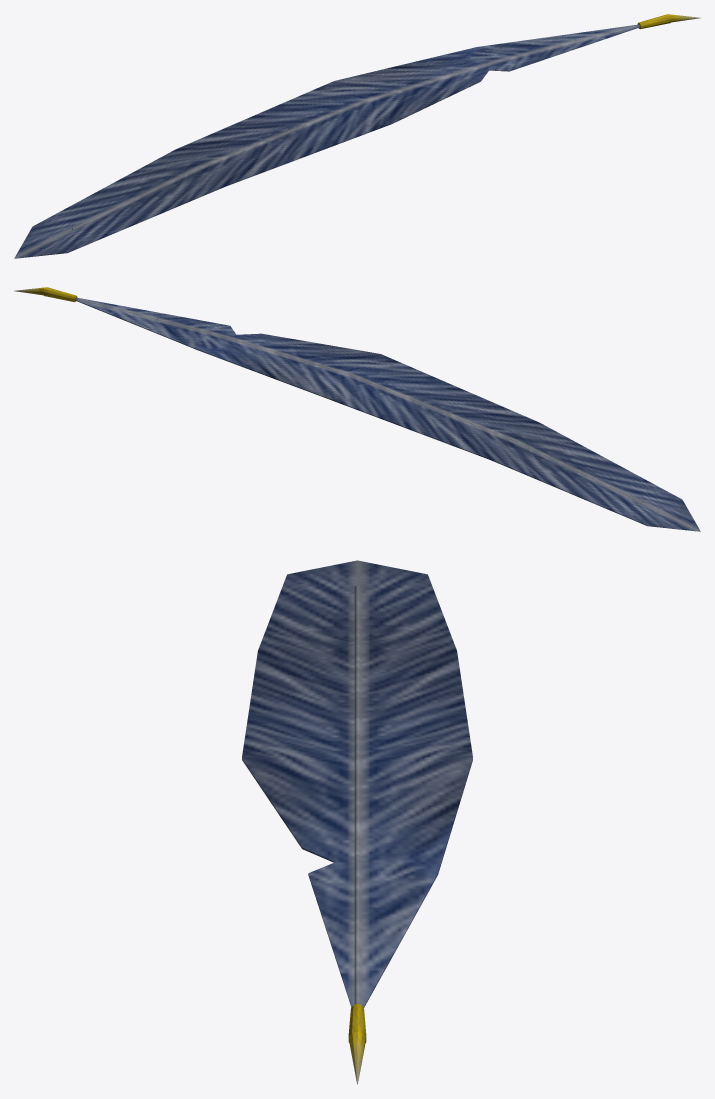
Rendered from quill_01.fbx.
3 views of the same model, one above another, from view 1: azimuth 30°, elevation 25°; view 2: azimuth 150°, elevation 25°; view 3: azimuth 270°, elevation 25° (orthographic). The views are drawn at different scales.
Visible parts, largest first — view 1: quill1; view 2: quill1; view 3: quill1.
Part boxes in pixels (box(x1,y1,x2,y2)): quill1: box(14, 14, 700, 258); quill1: box(14, 287, 700, 531); quill1: box(242, 560, 472, 1084).
Size of the model in its own units: 1.43 by 0.1687 by 0.209.
